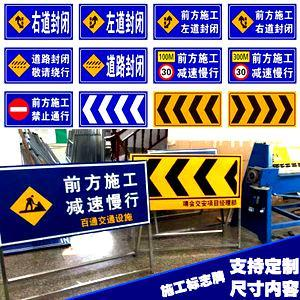sign: (1, 162, 146, 244), (79, 47, 145, 83), (229, 48, 294, 84), (153, 91, 221, 125), (153, 4, 221, 37), (228, 93, 296, 126), (5, 5, 72, 38), (5, 93, 72, 126), (153, 49, 220, 82), (80, 92, 145, 126), (78, 4, 146, 36), (229, 5, 295, 37), (5, 49, 71, 81)
